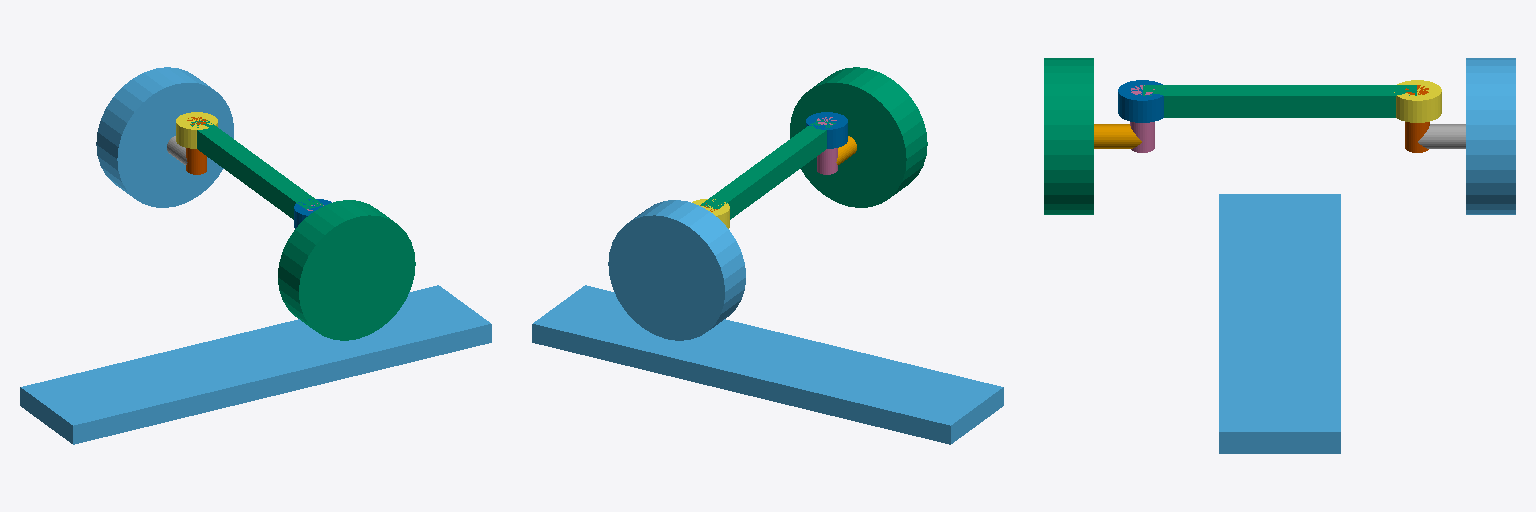
robot.urdf — utv:
<?xml version="1.0" ?>
<!-- =================================================================================== -->
<!-- |    This document was autogenerated by xacro from utv.urdf.xacro                 | -->
<!-- |    EDITING THIS FILE BY HAND IS NOT RECOMMENDED                                 | -->
<!-- =================================================================================== -->
<robot name="utv" xmlns:xacro="http://www.ros.org/wiki/xacro">
  <!-- Used for fixing robot to Gazebo 'base_link' -->
  <link name="world"/>
  <!-- chassis-->
  <!-- shock_upper_front_left -->
  <link name="chassis">
    <visual>
      <origin rpy="0 0 0" xyz="0 0 0"/>
      <geometry>
        <box size="2.29 0.5 0.1"/>
      </geometry>
      <material name="tire_mat"/>
    </visual>
    <collision>
      <origin rpy="0 0 0" xyz="0 0 0"/>
      <geometry>
        <box size="2.29 0.5 0.1"/>
      </geometry>
    </collision>
    <inertial>
      <mass value="500"/>
      <origin/>
      <inertia ixx="218.920833333" ixy="0" ixz="0" iyy="10.8333333333" iyz="0" izz="228.920833333"/>
    </inertial>
  </link>
  <joint name="world_to_chassis_joint" type="fixed">
    <parent link="world"/>
    <child link="chassis"/>
    <origin xyz="0 0 1"/>
  </joint>
  <!-- JOINT front_axle TO chassis -->
  <joint name="front_axle_to_chassis" type="fixed">
    <parent link="chassis"/>
    <child link="front_axle"/>
    <origin rpy="0 0 0" xyz="0 0 1"/>
  </joint>
  <!-- front_axle-->
  <link name="front_axle">
    <visual>
      <origin rpy="0 0 0" xyz="0 0 0"/>
      <geometry>
        <box size="0.1 1.12 0.1"/>
      </geometry>
      <material name="mat_1"/>
    </visual>
    <collision>
      <origin rpy="0 0 0" xyz="0 0 0"/>
      <geometry>
        <box size="0.1 1.12 0.1"/>
      </geometry>
    </collision>
    <inertial>
      <mass value="10"/>
      <origin/>
      <inertia ixx="1.05366666667" ixy="0" ixz="0" iyy="0.0166666666667" iyz="0" izz="1.05366666667"/>
    </inertial>
  </link>
  <!-- shock_upper_front_left -->
  <link name="shock_upper_front_left">
    <visual>
      <origin xyz="0 0 0"/>
      <geometry>
        <cylinder length="0.1" radius="0.1"/>
      </geometry>
      <material name="tire_mat"/>
    </visual>
    <collision>
      <origin xyz="0 0 0"/>
      <geometry>
        <cylinder length="0.1" radius="0.1"/>
      </geometry>
    </collision>
    <inertial>
      <mass value="3"/>
      <inertia ixx="0.016075" ixy="0" ixz="0" iyy="0.016075" iyz="0" izz="0.02715"/>
    </inertial>
  </link>
  <!-- JOINT shock_upper_front_left TO front_axle -->
  <joint name="shock_front_left_to_front_axle_joint" type="fixed">
    <parent link="front_axle"/>
    <child link="shock_upper_front_left"/>
    <origin xyz="0 0.56 0"/>
  </joint>
  <!-- shock_upper_front_right -->
  <link name="shock_upper_front_right">
    <visual>
      <origin xyz="0 0 0"/>
      <geometry>
        <cylinder length="0.1" radius="0.1"/>
      </geometry>
      <material name="tire_mat"/>
    </visual>
    <collision>
      <origin xyz="0 0 0"/>
      <geometry>
        <cylinder length="0.1" radius="0.1"/>
      </geometry>
    </collision>
    <inertial>
      <mass value="3"/>
      <inertia ixx="0.016075" ixy="0" ixz="0" iyy="0.016075" iyz="0" izz="0.02715"/>
    </inertial>
  </link>
  <!-- JOINT shock_upper_front_right TO front_axle -->
  <joint name="shock_front_right_to_front_axle_joint" type="fixed">
    <parent link="front_axle"/>
    <child link="shock_upper_front_right"/>
    <origin xyz="0 -0.56 0"/>
  </joint>
  <!-- shock_lower_front_left -->
  <link name="shock_lower_front_left">
    <visual>
      <origin xyz="0 0 0"/>
      <geometry>
        <cylinder length="0.258" radius="0.05"/>
      </geometry>
      <material name="tire_mat"/>
    </visual>
    <collision>
      <origin xyz="0 0 0"/>
      <geometry>
        <cylinder length="0.258" radius="0.05"/>
      </geometry>
    </collision>
    <inertial>
      <mass value="1"/>
      <inertia ixx="0.006572" ixy="0" ixz="0" iyy="0.006572" iyz="0" izz="0.00205"/>
    </inertial>
  </link>
  <!-- JOINT shock_lower_front_left TO shock_upper_front_left -->
  <joint name="shock_front_left_upper_to_lower_joint" type="prismatic">
    <parent link="shock_upper_front_left"/>
    <child link="shock_lower_front_left"/>
    <origin xyz="0 0 -0.079"/>
    <axis xyz="0 0 1"/>
    <limit effort="20" lower="0" upper="0.208" velocity="1000"/>
  </joint>
  <transmission name="front_left_shock_trans">
    <type>transmission_interface/SimpleTransmission</type>
    <joint name="shock_front_left_upper_to_lower_joint">
      <hardwareInterface>EffortJointInterface</hardwareInterface>
    </joint>
    <actuator name="front_left_shock_act">
      <!-- This hardwareInterface element exists for compatibility
             with ROS Hydro. -->
      <hardwareInterface>EffortJointInterface</hardwareInterface>
      <mechanicalReduction>1</mechanicalReduction>
    </actuator>
  </transmission>
  <!-- shock_lower_front_right -->
  <link name="shock_lower_front_right">
    <visual>
      <origin xyz="0 0 0"/>
      <geometry>
        <cylinder length="0.258" radius="0.05"/>
      </geometry>
      <material name="tire_mat"/>
    </visual>
    <collision>
      <origin xyz="0 0 0"/>
      <geometry>
        <cylinder length="0.258" radius="0.05"/>
      </geometry>
    </collision>
    <inertial>
      <mass value="1"/>
      <inertia ixx="0.006572" ixy="0" ixz="0" iyy="0.006572" iyz="0" izz="0.00205"/>
    </inertial>
  </link>
  <!-- JOINT shock_lower_front_right TO shock_upper_front_right -->
  <joint name="shock_front_right_upper_to_lower_joint" type="prismatic">
    <parent link="shock_upper_front_right"/>
    <child link="shock_lower_front_right"/>
    <origin xyz="0 0 -0.079"/>
    <axis xyz="0 0 1"/>
    <limit effort="20" lower="0" upper="0.208" velocity="1000"/>
  </joint>
  <transmission name="front_right_shock_trans">
    <type>transmission_interface/SimpleTransmission</type>
    <joint name="shock_front_right_upper_to_lower_joint">
      <hardwareInterface>EffortJointInterface</hardwareInterface>
    </joint>
    <actuator name="front_right_shock_act">
      <!-- This hardwareInterface element exists for compatibility
             with ROS Hydro. -->
      <hardwareInterface>EffortJointInterface</hardwareInterface>
      <mechanicalReduction>1</mechanicalReduction>
    </actuator>
  </transmission>
  <!-- steer_link_front_left -->
  <link name="steer_link_front_left">
    <visual>
      <origin rpy="1.57079633 0 0" xyz="0 0.1 0"/>
      <geometry>
        <cylinder length="0.2" radius="0.05"/>
      </geometry>
      <material name="tire_mat"/>
    </visual>
    <collision>
      <origin rpy="1.57079633 0 0" xyz="0 0.1 0"/>
      <geometry>
        <cylinder length="0.2" radius="0.05"/>
      </geometry>
    </collision>
    <inertial>
      <mass value="1"/>
      <inertia ixx="0.00435833333333" ixy="0" ixz="0" iyy="0.00435833333333" iyz="0" izz="0.00205"/>
    </inertial>
  </link>
  <!-- JOINT steer_link_front_left TO shock_lower_front_left -->
  <joint name="steer_front_left_joint" type="revolute">
    <parent link="shock_lower_front_left"/>
    <child link="steer_link_front_left"/>
    <origin xyz="0 0 -0.079"/>
    <axis xyz="0 0 1"/>
    <limit effort="50" lower="-0.785398163" upper="0.785398163" velocity="4.553"/>
  </joint>
  <transmission name="front_left_steering_trans">
    <type>transmission_interface/SimpleTransmission</type>
    <joint name="steer_front_left_joint">
      <hardwareInterface>EffortJointInterface</hardwareInterface>
    </joint>
    <actuator name="front_left_steering_act">
      <!-- This hardwareInterface element exists for compatibility
             with ROS Hydro. -->
      <hardwareInterface>EffortJointInterface</hardwareInterface>
      <mechanicalReduction>1</mechanicalReduction>
    </actuator>
  </transmission>
  <!-- steer_link_front_right -->
  <link name="steer_link_front_right">
    <visual>
      <origin rpy="1.57079633 0 0" xyz="0 -0.1 0"/>
      <geometry>
        <cylinder length="0.2" radius="0.05"/>
      </geometry>
      <material name="tire_mat"/>
    </visual>
    <collision>
      <origin rpy="1.57079633 0 0" xyz="0 0 0"/>
      <geometry>
        <cylinder length="0.2" radius="0.05"/>
      </geometry>
    </collision>
    <inertial>
      <mass value="1"/>
      <inertia ixx="0.00435833333333" ixy="0" ixz="0" iyy="0.00435833333333" iyz="0" izz="0.00205"/>
    </inertial>
  </link>
  <!-- JOINT steer_link_front_right TO shock_lower_front_right -->
  <joint name="steer_front_right_joint" type="revolute">
    <parent link="shock_lower_front_right"/>
    <child link="steer_link_front_right"/>
    <origin xyz="0 0 -0.079"/>
    <axis xyz="0 0 1"/>
    <limit effort="50" lower="-0.785398163" upper="0.785398163" velocity="4.553"/>
  </joint>
  <transmission name="front_right_steering_trans">
    <type>transmission_interface/SimpleTransmission</type>
    <joint name="steering_front_right_joint">
      <hardwareInterface>EffortJointInterface</hardwareInterface>
    </joint>
    <actuator name="front_right_steering_act">
      <!-- This hardwareInterface element exists for compatibility
             with ROS Hydro. -->
      <hardwareInterface>EffortJointInterface</hardwareInterface>
      <mechanicalReduction>1</mechanicalReduction>
    </actuator>
  </transmission>
  <!-- wheel_front_left -->
  <link name="wheel_front_left">
    <visual>
      <origin rpy="1.57079633 0 0" xyz="0 0.1 0"/>
      <geometry>
        <cylinder length="0.2" radius="0.32"/>
      </geometry>
      <material name="tire_mat"/>
    </visual>
    <collision>
      <origin rpy="1.57079633 0 0" xyz="0 0.1 0"/>
      <geometry>
        <cylinder length="0.2" radius="0.32"/>
      </geometry>
    </collision>
    <inertial>
      <mass value="3"/>
      <inertia ixx="0.158875" ixy="0" ixz="0" iyy="0.158875" iyz="0" izz="0.29775"/>
    </inertial>
  </link>
  <!-- JOINT wheel_front_left TO steer_link_front_left -->
  <joint name="wheel_front_left_to_steer_link_joint" type="continuous">
    <parent link="steer_link_front_left"/>
    <child link="wheel_front_left"/>
    <origin xyz="0 0.2 0 "/>
    <axis xyz="0 1 0"/>
    <limit effort="100" velocity="244.8696"/>
  </joint>
  <!-- wheel_front_right -->
  <link name="wheel_front_right">
    <visual>
      <origin rpy="1.57079633 0 0" xyz="0 -0.1 0"/>
      <geometry>
        <cylinder length="0.2" radius="0.32"/>
      </geometry>
      <material name="tire_mat"/>
    </visual>
    <collision>
      <origin rpy="1.57079633 0 0" xyz="0 -0.1 0"/>
      <geometry>
        <cylinder length="0.2" radius="0.32"/>
      </geometry>
    </collision>
    <inertial>
      <mass value="3"/>
      <inertia ixx="0.158875" ixy="0" ixz="0" iyy="0.158875" iyz="0" izz="0.29775"/>
    </inertial>
  </link>
  <!-- JOINT wheel_front_right TO steer_link_front_right -->
  <joint name="wheel_front_right_to_steer_link_joint" type="continuous">
    <parent link="steer_link_front_right"/>
    <child link="wheel_front_right"/>
    <origin xyz="0 -0.2 0 "/>
    <axis xyz="0 1 0"/>
    <limit effort="100" velocity="244.8696"/>
  </joint>
</robot>

--- Facts derived from the render (not from the file) ---
3 views of the same robot in one strip: view 1: azimuth 30°, elevation 25°; view 2: azimuth 150°, elevation 25°; view 3: azimuth 270°, elevation 25° (orthographic).
Model utv with 11 links and 10 joints (2 revolute, 2 continuous, 2 prismatic, 4 fixed), rooted at world, posed all joints at 0.
Visible links, largest first — view 1: chassis, wheel_front_right, wheel_front_left, front_axle, shock_upper_front_left, shock_lower_front_left; view 2: chassis, wheel_front_left, wheel_front_right, front_axle, shock_upper_front_right, shock_lower_front_right; view 3: chassis, front_axle, wheel_front_left, wheel_front_right, shock_upper_front_right, shock_upper_front_left, steer_link_front_left, steer_link_front_right, shock_lower_front_left, shock_lower_front_right.
Link boxes in pixels (x1,y1,x2,y2): chassis: (20, 285, 491, 444); wheel_front_right: (278, 200, 415, 340); wheel_front_left: (96, 67, 233, 207); front_axle: (190, 119, 322, 219); shock_upper_front_left: (176, 112, 217, 148); shock_lower_front_left: (186, 117, 206, 174); chassis: (532, 285, 1003, 444); wheel_front_left: (608, 200, 745, 340); wheel_front_right: (790, 67, 927, 207); front_axle: (701, 119, 835, 219); shock_upper_front_right: (806, 112, 847, 148); shock_lower_front_right: (817, 117, 837, 174); chassis: (1219, 194, 1340, 453); front_axle: (1143, 85, 1416, 117); wheel_front_left: (1466, 58, 1515, 214); wheel_front_right: (1044, 58, 1093, 214); shock_upper_front_right: (1118, 80, 1165, 122); shock_upper_front_left: (1394, 80, 1441, 122); steer_link_front_left: (1418, 124, 1465, 148); steer_link_front_right: (1094, 124, 1141, 148); shock_lower_front_left: (1405, 85, 1429, 152); shock_lower_front_right: (1130, 85, 1154, 152).
Size in the robot's own frame: 2.29 by 1.92 by 1.21 metres.
Geometry: primitives only (box / cylinder / sphere), no mesh files.